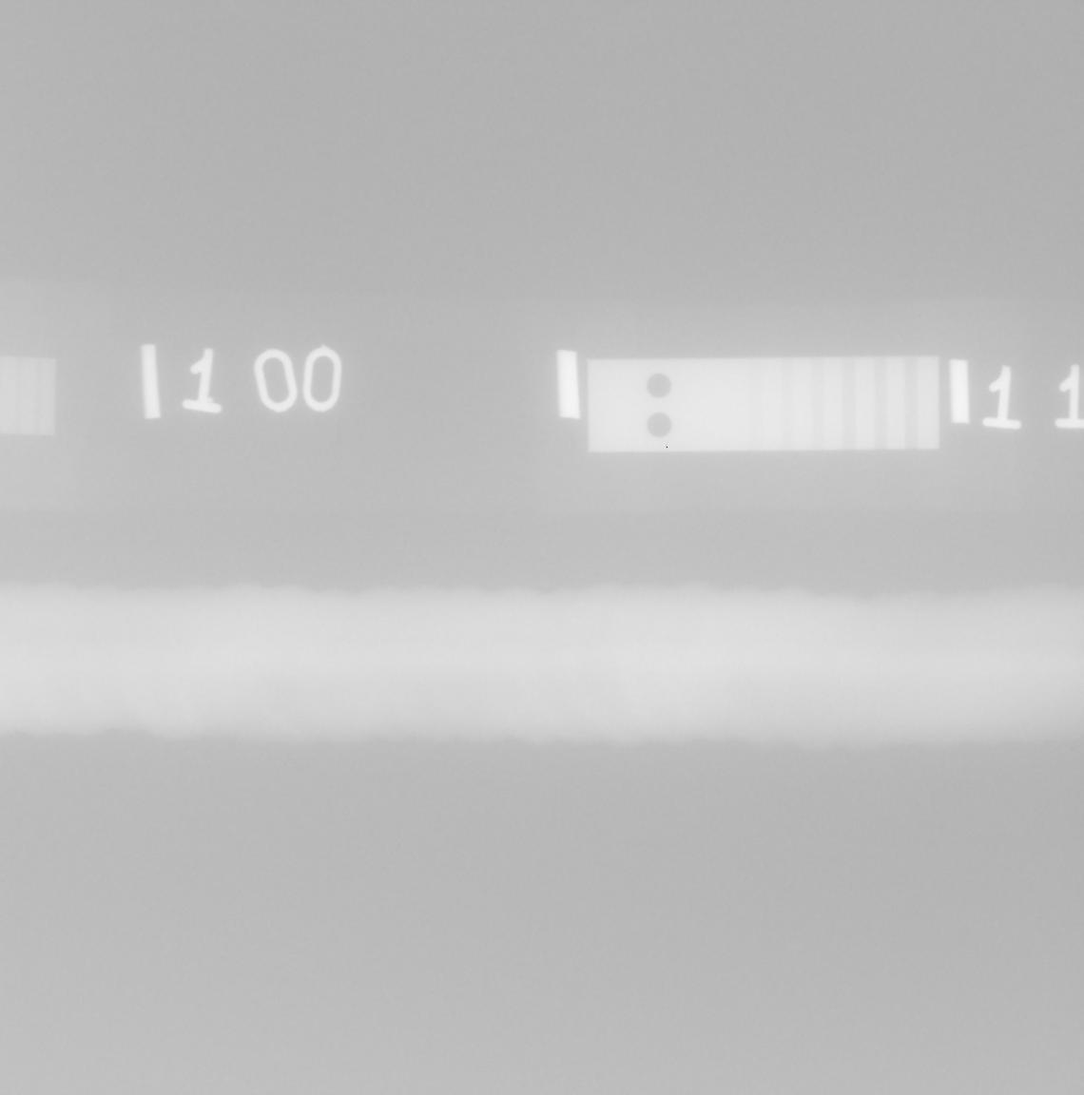Reference Standard 2: (587, 355, 939, 452)
